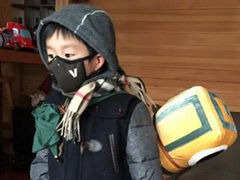face_mask: (42, 31, 93, 91)
